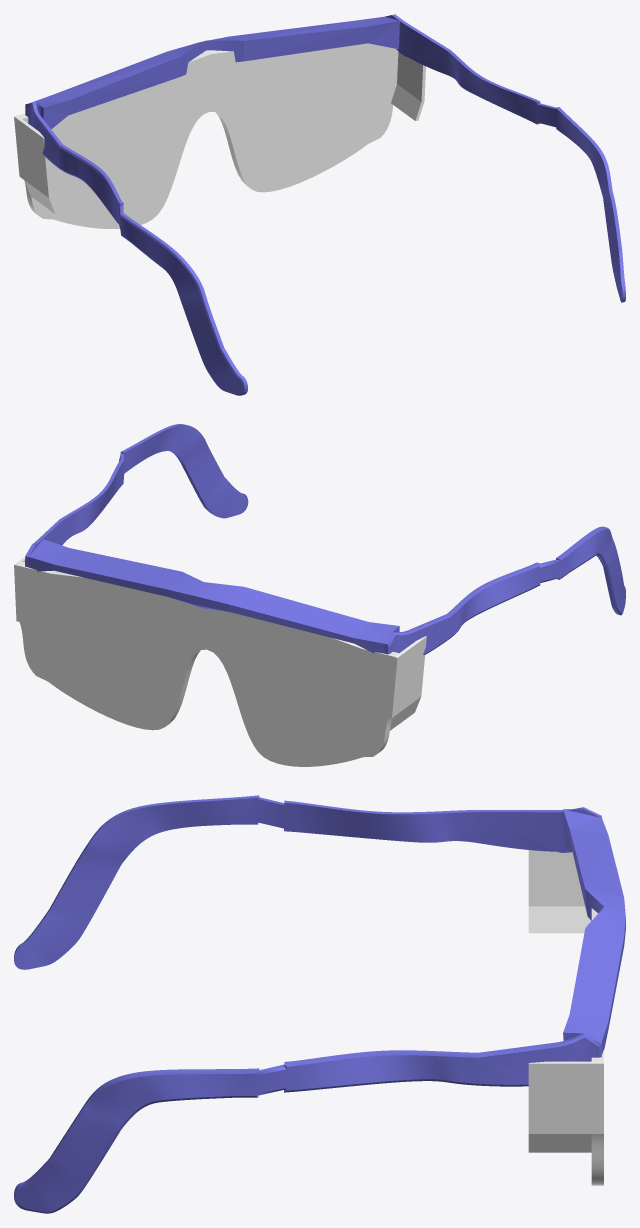
Rendered from goggle.glb.
The picture shows the model from 3 angles, top to bottom: view 1: azimuth 30°, elevation 25°; view 2: azimuth 150°, elevation 25°; view 3: azimuth 270°, elevation 25°; orthographic projection. The views are drawn at different scales.
Visible parts, largest first — view 1: Line006, goggleFrame; view 2: Line006, goggleFrame; view 3: goggleFrame, Line006.
Part boxes in pixels (box(x1,y1,x2,y2)): Line006: box(14, 43, 425, 228); goggleFrame: box(25, 14, 625, 395); Line006: box(14, 557, 426, 766); goggleFrame: box(25, 424, 625, 654); goggleFrame: box(14, 795, 625, 1213); Line006: box(528, 822, 603, 1185).
Bounding box in the file's own units: 0.2596 × 0.0922 × 0.243.
